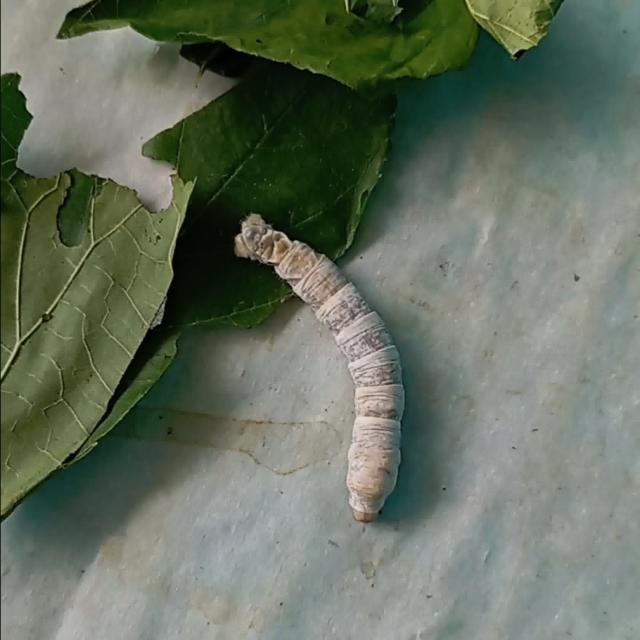Grasserie: (226, 200, 414, 535)
